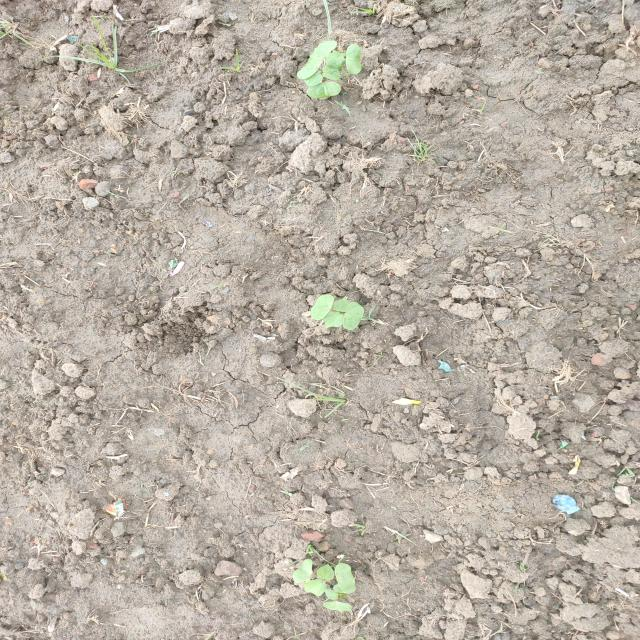seedling: (310, 294, 334, 321), (343, 302, 364, 330), (307, 82, 341, 99), (297, 58, 324, 79), (310, 40, 337, 60), (335, 563, 355, 590), (293, 559, 312, 583), (346, 44, 361, 74), (302, 579, 327, 596), (325, 53, 345, 70), (323, 312, 344, 328), (322, 64, 342, 80), (323, 601, 352, 612), (317, 563, 334, 581), (304, 71, 323, 86), (332, 297, 350, 312), (333, 584, 356, 594), (325, 589, 338, 600)
